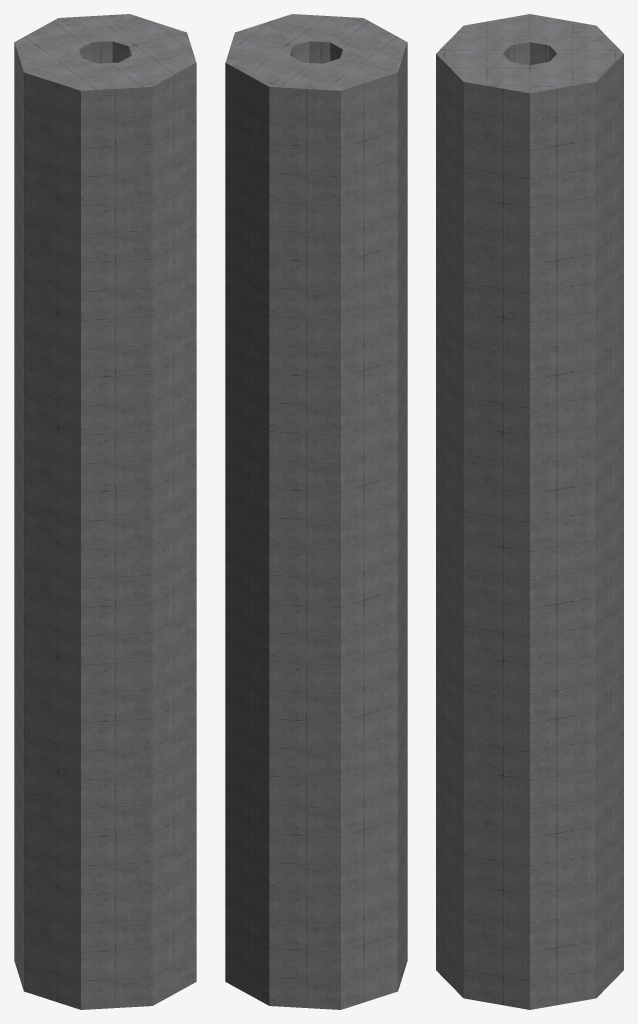
File: pillar_broken.FBX
3 renders of one model, left to right at view 1: azimuth 30°, elevation 25°; view 2: azimuth 150°, elevation 25°; view 3: azimuth 270°, elevation 25°, orthographic.
Parts seen in each view (by area): view 1: pillar002, pillar005, pillar003, pillar004, pillar006, pillar001; view 2: pillar003, pillar005, pillar002, pillar004, pillar001, pillar006; view 3: pillar002, pillar004, pillar003, pillar005, pillar006, pillar001.
Part boxes in pixels (x1,y1,x2,y2): pillar002: [14, 647, 196, 922]; pillar005: [14, 85, 196, 334]; pillar003: [14, 444, 196, 675]; pillar004: [14, 286, 196, 506]; pillar006: [14, 14, 196, 144]; pillar001: [14, 843, 196, 1009]; pillar003: [225, 444, 407, 713]; pillar005: [225, 85, 407, 334]; pillar002: [225, 627, 407, 891]; pillar004: [225, 286, 407, 506]; pillar001: [225, 863, 407, 1009]; pillar006: [225, 14, 407, 144]; pillar002: [436, 629, 623, 909]; pillar004: [436, 288, 623, 536]; pillar003: [436, 472, 623, 699]; pillar005: [436, 112, 623, 314]; pillar006: [436, 14, 623, 171]; pillar001: [436, 846, 623, 1009].
Bounding box in the file's own units: 110 × 592 × 110.
